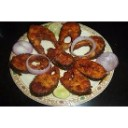seerfish: (25, 67, 61, 97), (26, 23, 59, 54), (9, 51, 50, 72), (73, 56, 106, 80), (72, 36, 106, 59), (63, 69, 91, 96), (58, 22, 82, 47)
